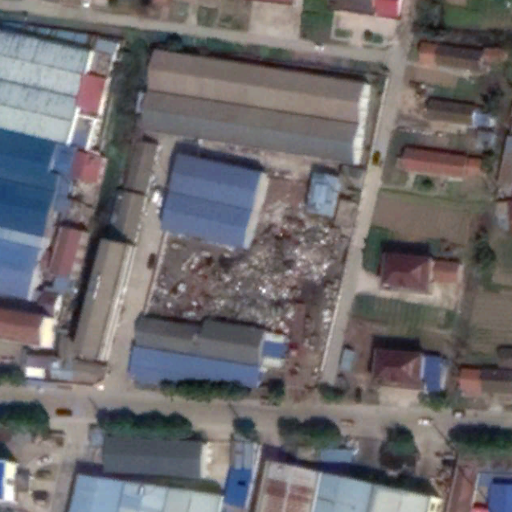msw: (206, 202, 346, 337)
